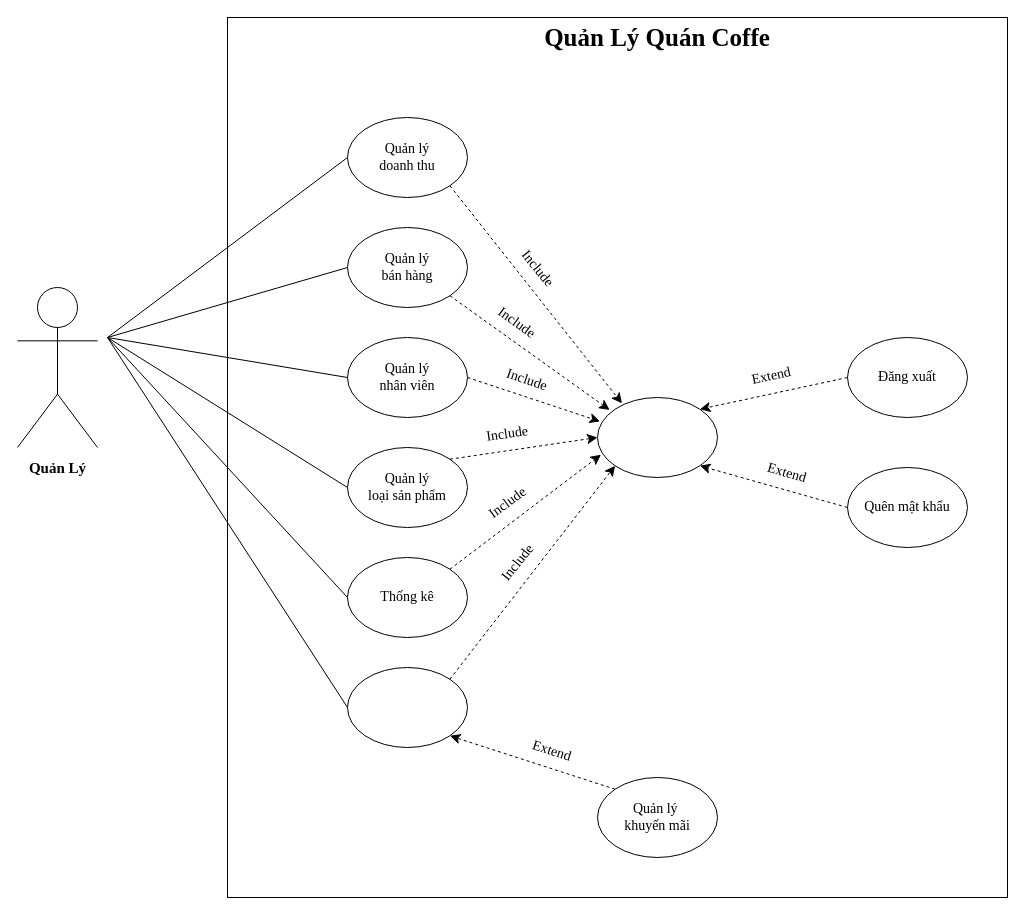
Some shapes in this 1025 by 915 pixel diagram are drawn without their labels. The centre of each missing label's shape, as x and y in pixels:
Quản lý sản phẩm: point (407, 707)
Đăng nhập: point (657, 437)
